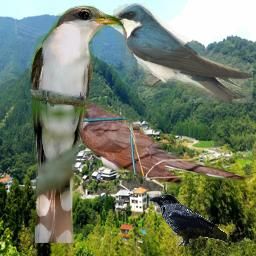Crow: (148, 194, 227, 246)
Cuckoo: (28, 4, 124, 243), (50, 96, 250, 193)
Swallow: (113, 3, 253, 103)
